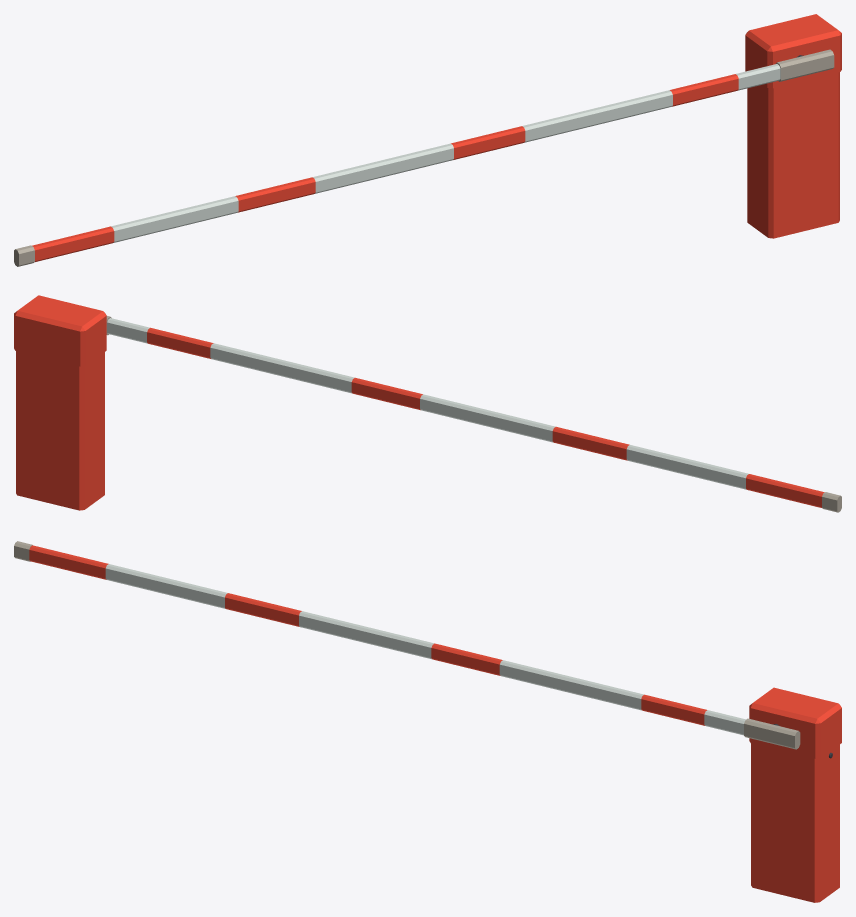
File: SM_Barrier_01.fbx
3 renders of one model, top to bottom at view 1: azimuth 30°, elevation 25°; view 2: azimuth 150°, elevation 25°; view 3: azimuth 330°, elevation 25°, orthographic. The views are drawn at different scales.
Visible parts, largest first — view 1: SM_Barrier_01; view 2: SM_Barrier_01; view 3: SM_Barrier_01.
Part boxes in pixels (x1=…): SM_Barrier_01: x1=14, y1=14, x2=841, y2=266; SM_Barrier_01: x1=14, y1=295, x2=841, y2=512; SM_Barrier_01: x1=14, y1=541, x2=841, y2=902.
Size of the model in its own units: 488 by 107 by 34.22.
